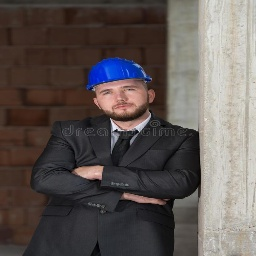helmet: (78, 55, 155, 93)
no-vest: (43, 119, 183, 249)
person: (38, 57, 203, 249)
